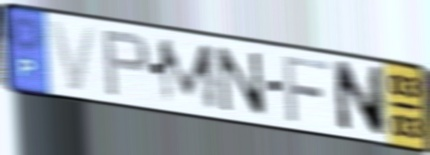F: (280, 53, 333, 125)
M: (155, 37, 222, 112)
N: (331, 58, 388, 140), (214, 44, 270, 120)
P: (100, 28, 153, 99)
V: (47, 17, 100, 94)
